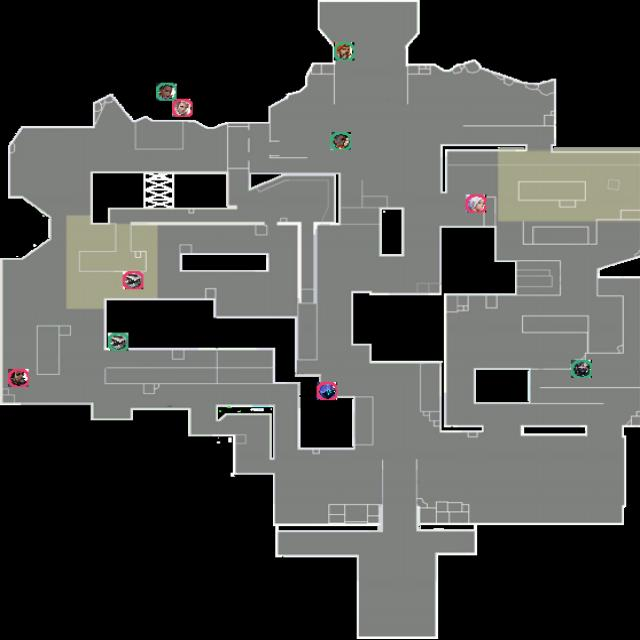atk_cypher: (123, 271, 143, 289)
atk_harbor: (8, 369, 29, 387)
atk_jett: (466, 195, 486, 212)
atk_omen: (317, 382, 337, 400)
atk_sova: (172, 99, 193, 117)
def_astra: (156, 82, 177, 100)
def_brimstone: (334, 42, 354, 61)
def_cypher: (108, 332, 128, 350)
def_phoenix: (330, 132, 351, 150)
def_viper: (571, 360, 592, 378)
